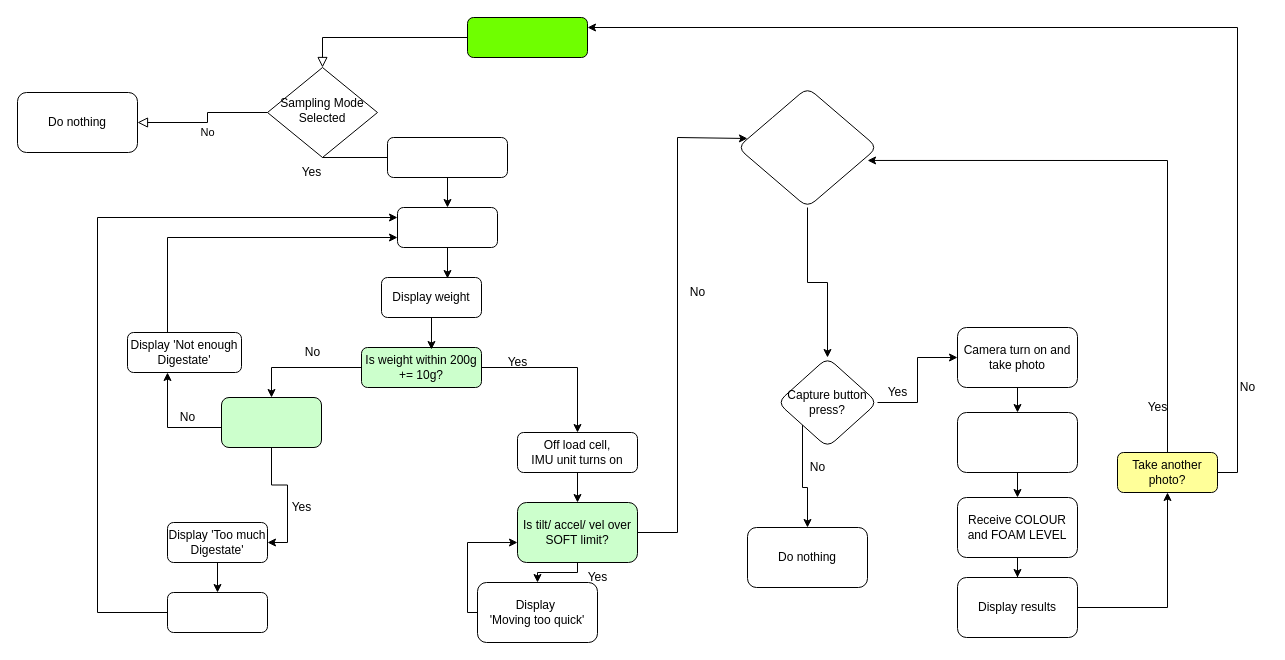
Some shapes in this 1285 by 660 pixel diagram are drawn without their labels. Each missing label, with the centre of its shape:
"Empty flask and refill" belongs at [217,612].
"Is weight > 200g?" belongs at [271,422].
"Load cell turns on" belongs at [447,157].
"Prompt user to fill the flask" belongs at [447,227].
"Run Ling's magic" belongs at [1017,442].
"Set rotation angle of platform" belongs at [807,147].
"UI on boot" belongs at [527,37].
